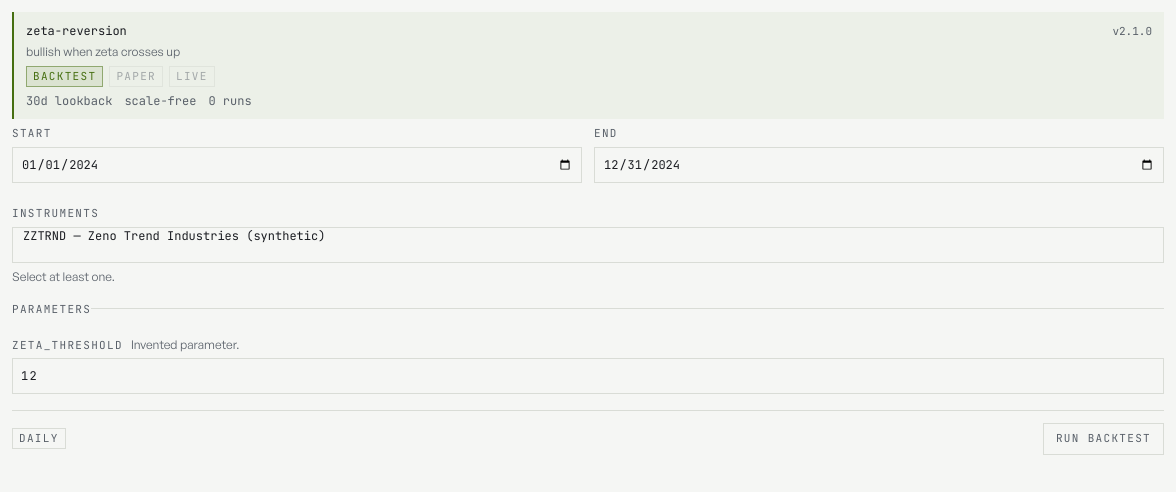
it: RunConfigForm › reports an out-of-range value against that specific parameter
Replace the text in the number field labelled "zeta_threshold" with "99" at (588, 376), box top-left (12, 358), bottom-right (1164, 394)
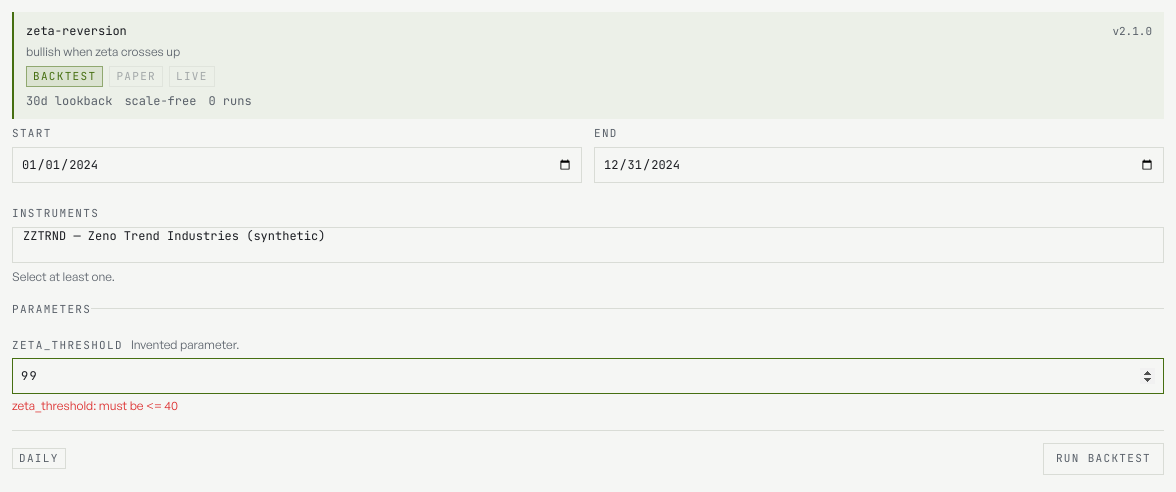
expect the message shows "zeta_threshold": met, box top-left (12, 398), bottom-right (93, 412)
expect the message shows "<= 40": met, box top-left (99, 398), bottom-right (178, 412)
